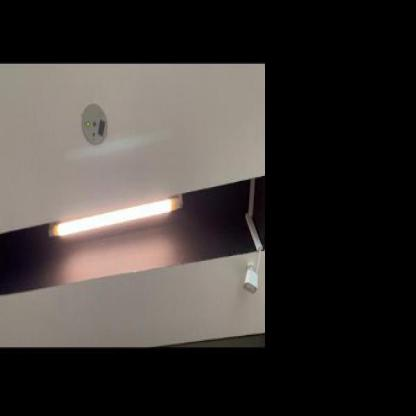light_on: (50, 186, 187, 249)
